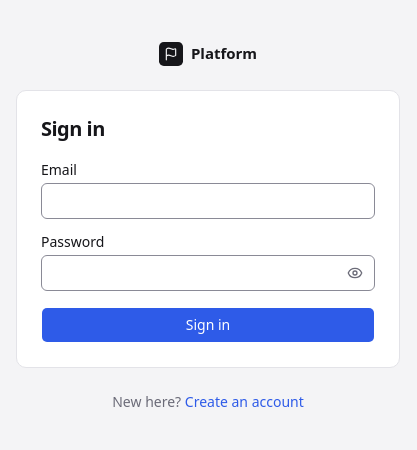
it: sign in › turns the button into a countdown after too many attempts
Type "user@example.com" into the field labelled "Email" at [208, 201], box [41,183,375,219]
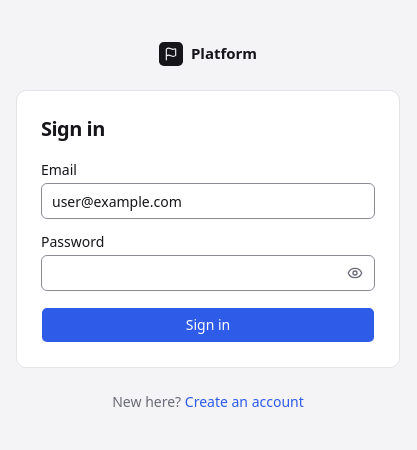
Type "wrong" into the password field labelled "Password" at [208, 273], box [41,255,375,291]
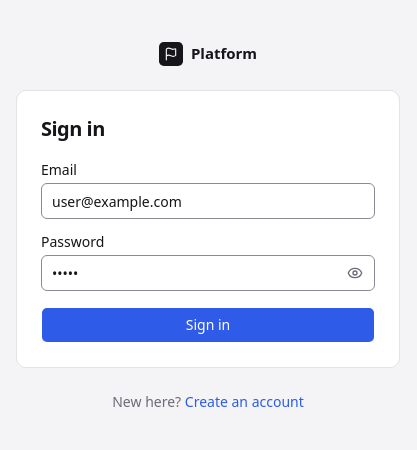
Click the button "Sign in" at [208, 325], box [41,307,375,343]
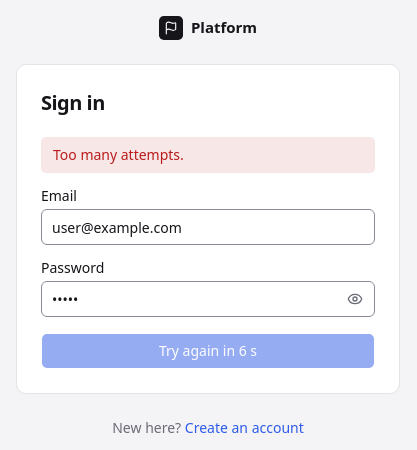
Result: the button "Try again in 6 s" is disabled at [41,333,375,369]
Result: the message reads "Too many attempts." at [53,145,184,164]
